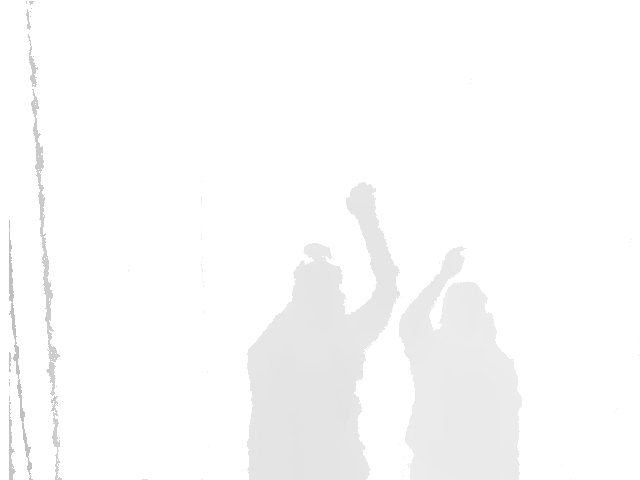hand: (346, 182, 379, 220), (441, 246, 466, 277)
head: (290, 243, 343, 313), (442, 282, 494, 332)
person: (244, 182, 400, 480), (397, 246, 524, 480)
